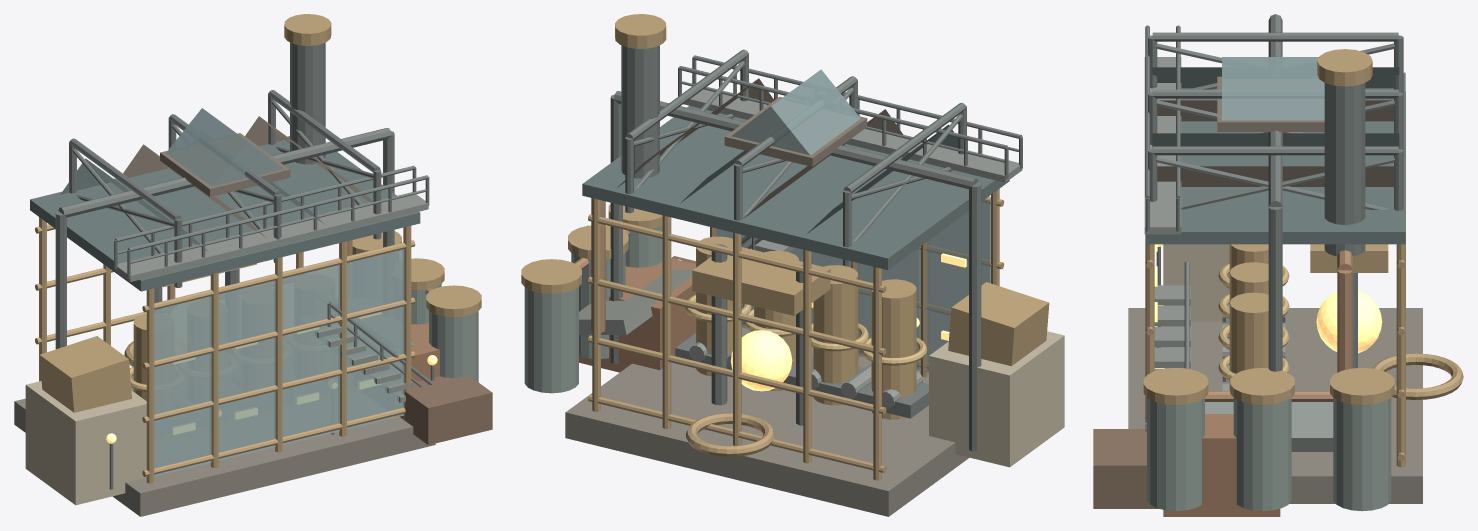
The model's file is context-works.glb.
The picture shows the model from 3 angles, left to right: view 1: azimuth 30°, elevation 25°; view 2: azimuth 150°, elevation 25°; view 3: azimuth 270°, elevation 25°; orthographic projection. The views are drawn at different scales.
Visible parts, largest first — view 1: context_roof, context_plinth, intake_annex, glass_front_-0.5, glass_front_-1.5, glass_front_0.5, glass_front_1.5, upper_service_walk_deck, intake_hopper, reject_bin, context_monitor_gable, context_monitor_base (+33 smaller); view 2: context_plinth, context_roof, intake_annex, context_monitor_gable, intake_hopper, buffer_tank_0, context_monitor_base, glass_front_-1.5, press_head, reject_annex, context_stack, sorter_1 (+44 smaller); view 3: context_plinth, context_roof, context_monitor_gable, buffer_tank_0, context_stack, buffer_tank_1, buffer_tank_2, context_monitor_base, reject_bin, reject_annex, intake_annex, sorter_3 (+39 smaller).
Boxes of the visible parts, x1,y1,x2,y2 form: context_roof: (30, 136, 420, 291); context_plinth: (14, 375, 435, 516); intake_annex: (25, 381, 146, 505); glass_front_-0.5: (218, 274, 275, 460); glass_front_-1.5: (154, 291, 211, 476); glass_front_0.5: (282, 260, 339, 444); glass_front_1.5: (347, 243, 404, 429); upper_service_walk_deck: (114, 192, 428, 281); intake_hopper: (39, 336, 131, 412); reject_bin: (399, 376, 492, 445); context_monitor_gable: (166, 108, 283, 186); context_monitor_base: (160, 133, 290, 196); context_plinth: (565, 327, 969, 516); context_roof: (582, 105, 1009, 270); intake_annex: (929, 331, 1064, 467); context_monitor_gable: (731, 69, 860, 155); intake_hopper: (948, 282, 1049, 366); buffer_tank_0: (524, 287, 578, 393); context_monitor_base: (724, 96, 867, 166); glass_front_-1.5: (926, 199, 990, 372); press_head: (692, 244, 830, 315); reject_annex: (579, 258, 695, 372); context_stack: (621, 45, 659, 178); sorter_1: (813, 265, 858, 405); context_plinth: (1128, 308, 1422, 503); context_roof: (1145, 72, 1405, 244); context_monitor_gable: (1222, 57, 1324, 120); buffer_tank_0: (1333, 398, 1391, 511); context_stack: (1324, 83, 1365, 256); buffer_tank_1: (1233, 398, 1291, 511); buffer_tank_2: (1147, 398, 1204, 511); context_monitor_base: (1217, 76, 1324, 131); reject_bin: (1093, 429, 1158, 508); reject_annex: (1163, 414, 1280, 516); intake_annex: (1163, 244, 1229, 321); sorter_3: (1229, 292, 1268, 390).
Size of the model in its own units: 6.35 by 5.39 by 4.28.
